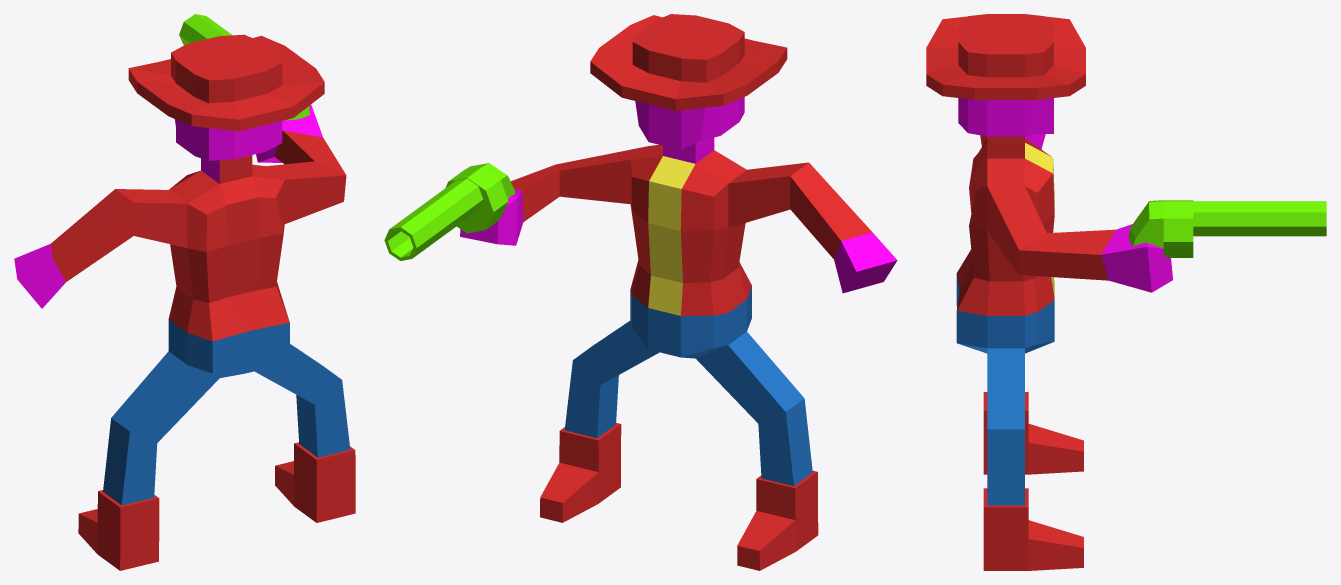
The model's file is CowboyForwardFacing.fbx.
The picture shows the model from 3 angles, left to right: view 1: azimuth 30°, elevation 25°; view 2: azimuth 150°, elevation 25°; view 3: azimuth 270°, elevation 25°; orthographic projection.
Parts seen in each view (by area): view 1: CowboyOne; view 2: CowboyOne; view 3: CowboyOne.
Part boxes in pixels (x1,y1,x2,y2): CowboyOne: (14,14,355,570); CowboyOne: (384,14,897,570); CowboyOne: (926,14,1326,570).
Size of the model in its own units: 1.87 by 2.34 by 1.77.
